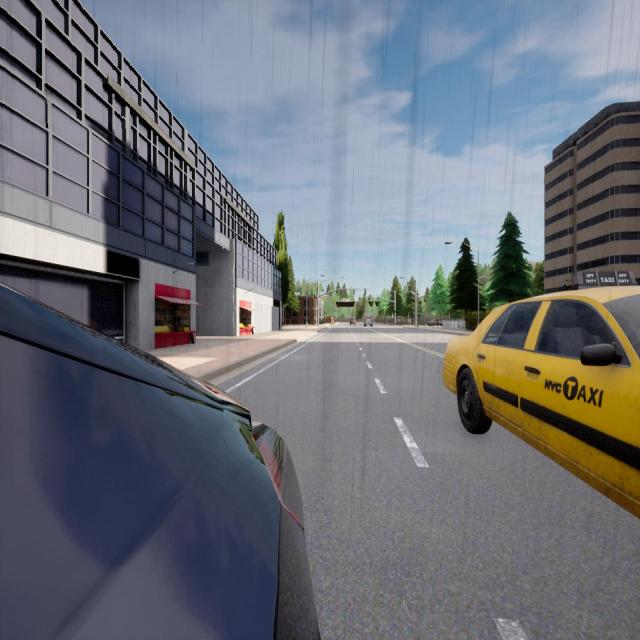Vehicle: (0, 283, 317, 640), (443, 286, 639, 517), (364, 313, 374, 327), (427, 318, 443, 326), (349, 316, 356, 326)
traffic_light: (364, 289, 366, 294), (394, 310, 396, 314), (404, 294, 406, 298), (340, 290, 341, 294), (368, 298, 369, 301), (378, 298, 379, 300), (360, 298, 360, 300), (354, 289, 354, 294)
